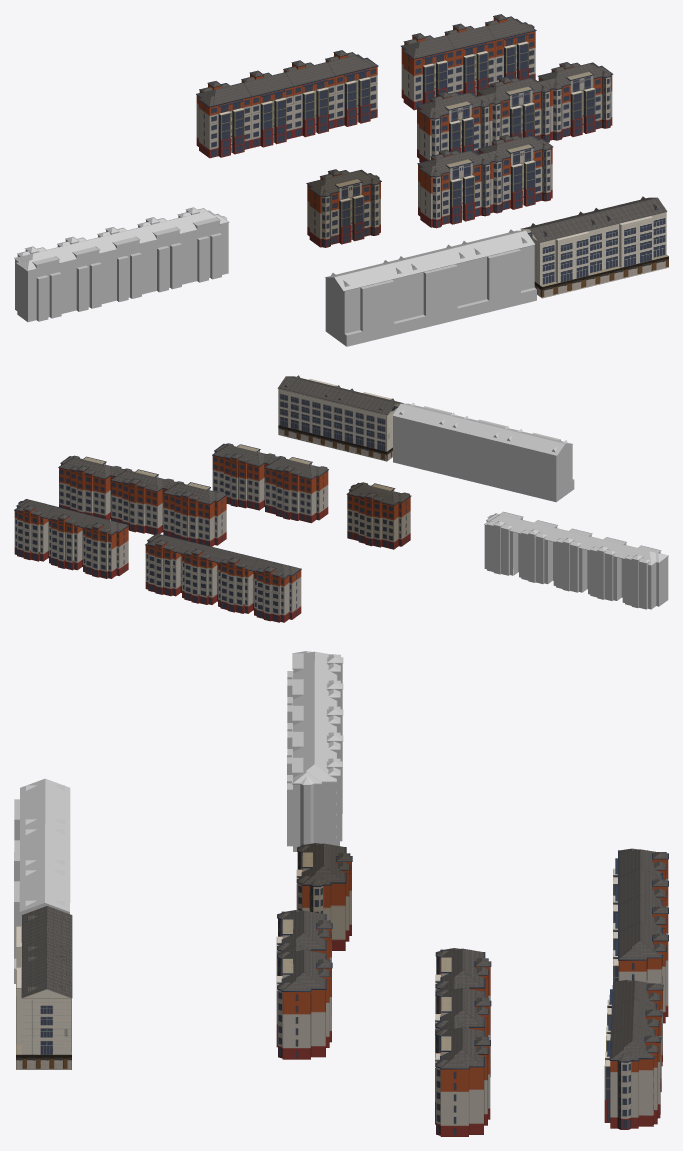
The model's file is xiaoqu2#.FBX.
3 views of the same model, one above another, from view 1: azimuth 30°, elevation 25°; view 2: azimuth 150°, elevation 25°; view 3: azimuth 270°, elevation 25° (orthographic). The views are drawn at different scales.
Visible parts, largest first — view 1: xiaoqu2#-6, xiaoqu2#-8, xiaoqu2#-2, xiaoqu2#-3, xiaoqu2#-7, xiaoqu2#-4, xiaoqu2#-1, xiaoqu2#-5; view 2: xiaoqu2#-6, xiaoqu2#-8, xiaoqu2#-3, xiaoqu2#-2, xiaoqu2#-7, xiaoqu2#-4, xiaoqu2#-1, xiaoqu2#-5; view 3: xiaoqu2#-8, xiaoqu2#-3, xiaoqu2#-7, xiaoqu2#-1, xiaoqu2#-4, xiaoqu2#-2, xiaoqu2#-6, xiaoqu2#-5.
Part boxes in pixels (box(x1,y1,x2,y2)): xiaoqu2#-6: box(325, 229, 536, 346); xiaoqu2#-8: box(14, 207, 229, 322); xiaoqu2#-2: box(196, 50, 378, 158); xiaoqu2#-3: box(416, 62, 613, 162); xiaoqu2#-7: box(520, 196, 668, 298); xiaoqu2#-4: box(417, 134, 553, 228); xiaoqu2#-1: box(401, 14, 536, 110); xiaoqu2#-5: box(306, 169, 381, 247); xiaoqu2#-6: box(392, 403, 574, 502); xiaoqu2#-8: box(484, 511, 668, 609); xiaoqu2#-3: box(58, 455, 227, 546); xiaoqu2#-2: box(145, 533, 301, 622); xiaoqu2#-7: box(277, 375, 403, 461); xiaoqu2#-4: box(212, 443, 328, 523); xiaoqu2#-1: box(14, 499, 129, 578); xiaoqu2#-5: box(346, 482, 411, 549); xiaoqu2#-8: box(287, 651, 343, 851); xiaoqu2#-3: box(435, 948, 491, 1136); xiaoqu2#-7: box(16, 906, 72, 1069); xiaoqu2#-1: box(604, 980, 663, 1129); xiaoqu2#-4: box(276, 910, 332, 1059); xiaoqu2#-2: box(613, 848, 668, 1023); xiaoqu2#-6: box(14, 778, 70, 983); xiaoqu2#-5: box(296, 843, 352, 950).
Bounding box in the file's own units: 224 × 149 × 20.41.
